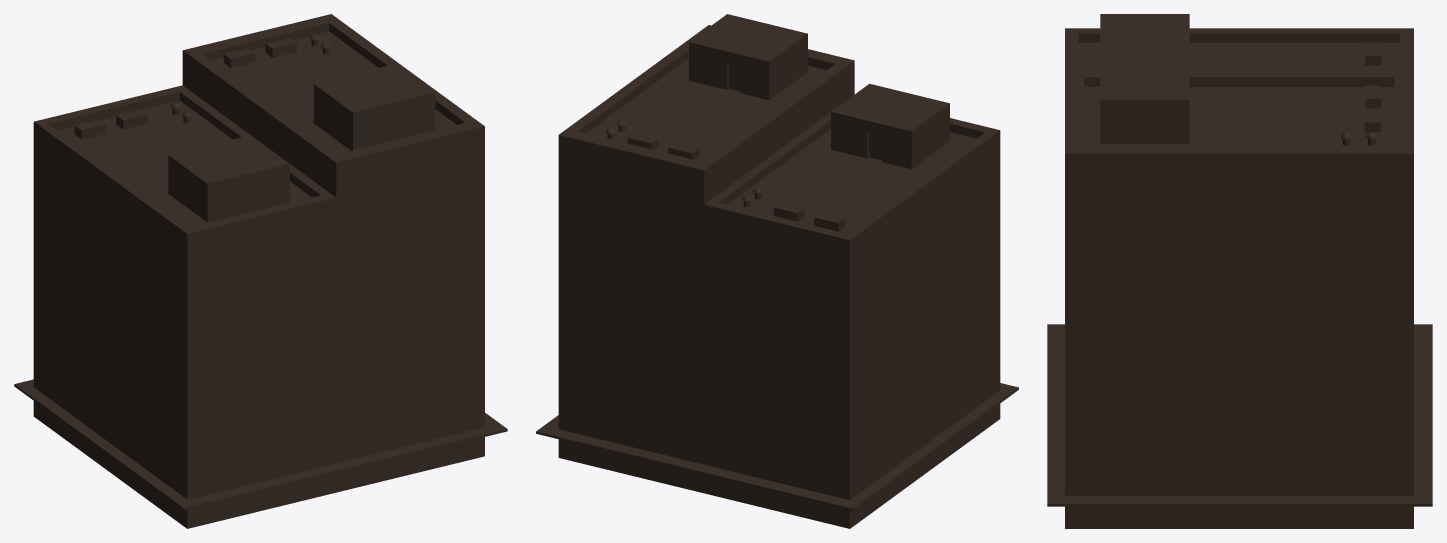
Rendered from ShortHouse.fbx.
3 views of the same model, side by side, from view 1: azimuth 30°, elevation 25°; view 2: azimuth 150°, elevation 25°; view 3: azimuth 270°, elevation 25° (orthographic). The views are drawn at different scales.
Visible parts, largest first — view 1: Building_11; view 2: Building_11; view 3: Building_11.
Boxes of the visible parts, box(x1,y1,x2,y2) form: Building_11: box(14, 14, 507, 528); Building_11: box(536, 14, 1018, 528); Building_11: box(1047, 14, 1432, 528).
Bounding box in the file's own units: 558 × 594 × 505.
